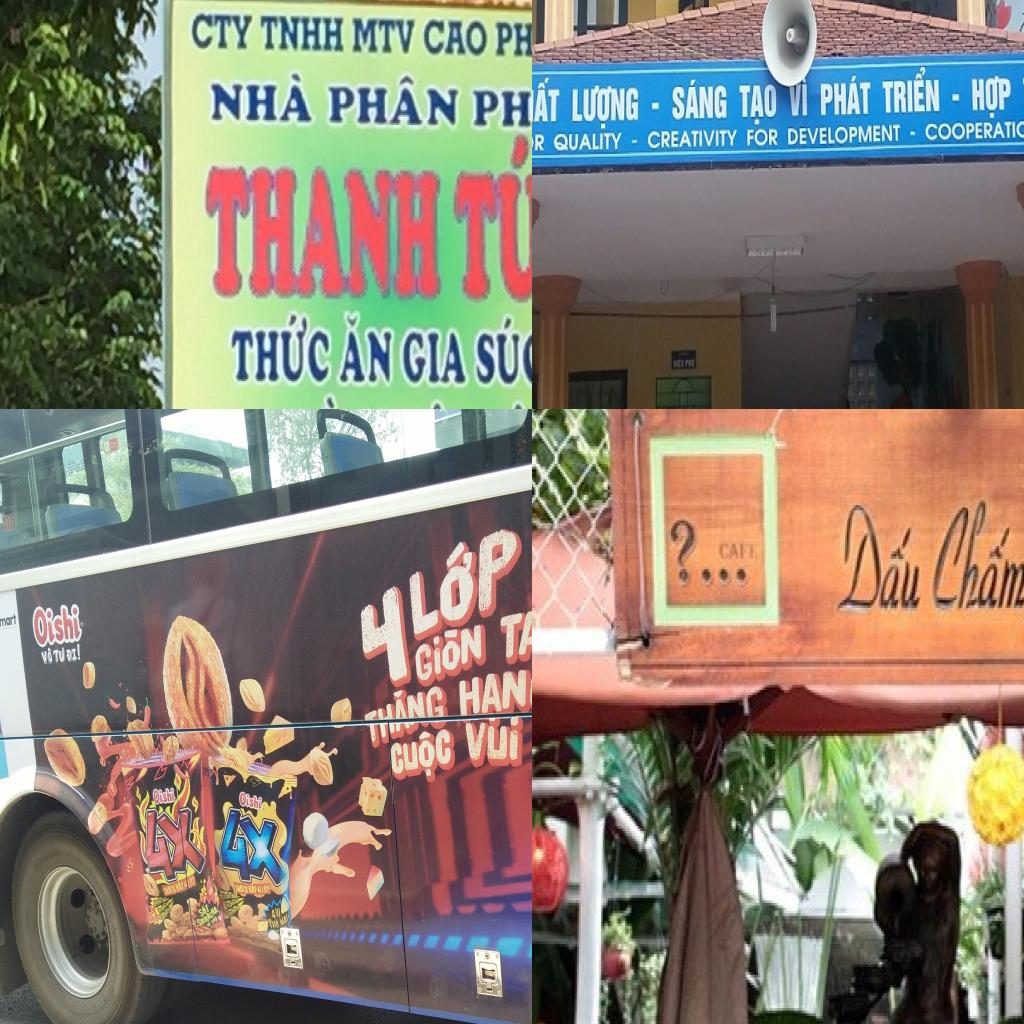text: (203, 158, 447, 302), (403, 518, 525, 642), (445, 134, 532, 307), (928, 495, 1024, 613), (833, 502, 932, 616), (324, 75, 462, 138), (230, 309, 334, 388), (208, 66, 317, 128), (356, 581, 412, 695), (217, 804, 290, 889), (136, 804, 208, 888), (397, 317, 473, 391), (411, 617, 488, 688), (338, 306, 396, 389), (457, 662, 532, 726), (471, 312, 532, 390), (389, 722, 457, 790), (467, 68, 532, 136), (357, 684, 451, 723), (261, 11, 347, 53), (571, 80, 641, 130), (188, 5, 257, 53), (786, 121, 902, 148), (422, 14, 490, 60), (881, 64, 941, 116), (351, 15, 419, 58), (669, 73, 729, 121), (28, 600, 85, 648), (666, 515, 702, 590), (817, 74, 873, 120), (923, 120, 1024, 144), (646, 127, 740, 151), (497, 600, 532, 663), (971, 73, 1013, 118), (738, 80, 779, 125), (553, 128, 623, 154), (492, 17, 532, 61), (287, 389, 371, 409), (532, 75, 563, 126), (702, 562, 754, 590), (717, 539, 762, 564), (788, 73, 809, 118), (746, 126, 780, 150), (239, 790, 264, 812), (196, 906, 220, 928), (152, 786, 177, 806), (143, 903, 162, 928), (1, 508, 17, 534), (66, 642, 82, 664), (39, 646, 54, 666), (532, 132, 546, 153), (52, 645, 66, 665), (0, 612, 17, 628), (161, 882, 177, 898), (196, 901, 210, 918), (649, 97, 662, 113), (174, 878, 186, 893), (673, 358, 685, 372), (234, 884, 249, 894), (279, 912, 289, 927), (186, 875, 197, 888), (267, 918, 280, 929), (950, 93, 962, 104), (686, 357, 696, 370), (248, 884, 258, 895), (274, 906, 282, 919), (262, 884, 270, 895), (629, 137, 639, 145), (909, 128, 917, 137), (210, 916, 218, 925), (223, 901, 231, 910), (228, 899, 236, 908), (271, 908, 277, 920), (156, 906, 163, 915), (160, 903, 167, 912), (226, 909, 233, 918), (231, 906, 238, 915), (208, 887, 214, 897), (221, 892, 228, 900), (152, 898, 159, 906), (206, 920, 212, 929), (184, 878, 188, 890), (157, 897, 163, 905), (160, 913, 166, 921), (163, 910, 169, 918), (226, 893, 232, 900), (230, 892, 236, 899), (234, 898, 240, 905), (166, 906, 172, 913), (236, 904, 241, 912), (258, 884, 262, 894), (162, 897, 168, 903), (164, 901, 170, 907)
